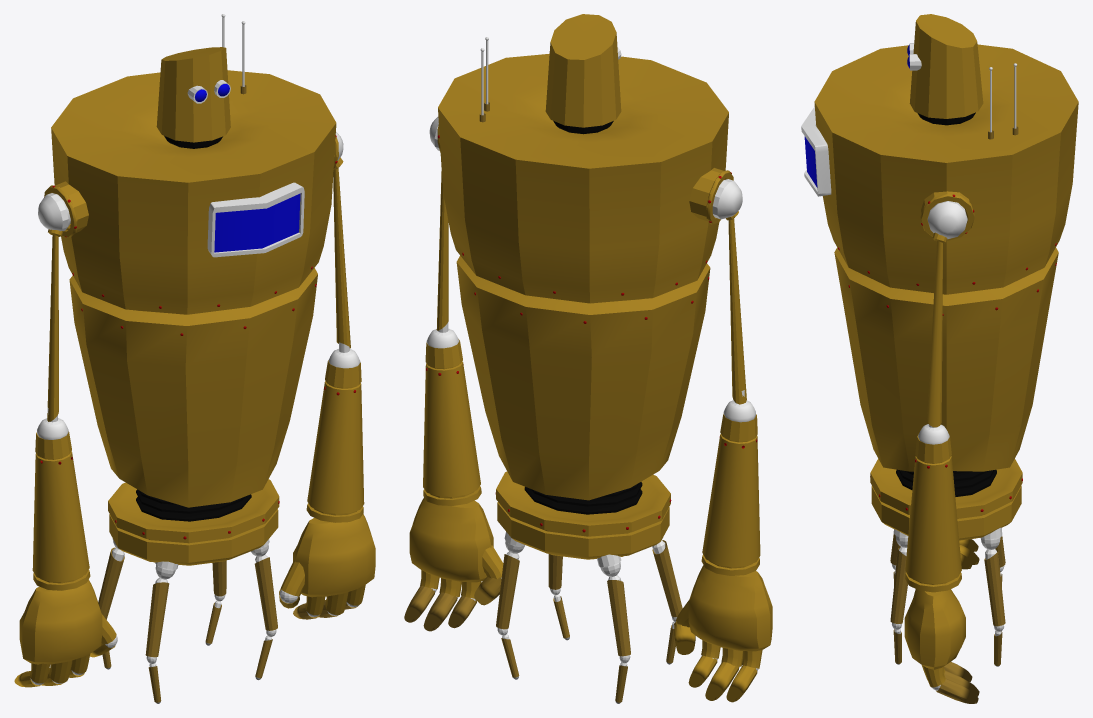
The model's file is Robot.fbx.
The picture shows the model from 3 angles, left to right: view 1: azimuth 30°, elevation 25°; view 2: azimuth 150°, elevation 25°; view 3: azimuth 270°, elevation 25°; orthographic projection. The views are drawn at different scales.
Visible parts, largest first — view 1: pCylinder1, pCylinder9, polySurface6, polySurface155, pCylinder11, polySurface181, polySurface84, pCube4, pCube3, polySurface2, polySurface153, pCylinder8 (+8 smaller); view 2: pCylinder1, pCylinder9, polySurface6, polySurface155, pCylinder11, polySurface181, polySurface84, polySurface153, pCylinder8, polySurface2, polySurface156, polySurface177 (+8 smaller); view 3: pCylinder1, polySurface6, pCylinder11, pCylinder9, polySurface84, polySurface2, pCube3, pCylinder12, pCylinder8, polySurface172, pPipe3, polySurface160 (+2 smaller).
Boxes of the visible parts, x1,y1,x2,y2 form: pCylinder1: [51, 70, 336, 507]; pCylinder9: [108, 479, 279, 565]; polySurface6: [306, 360, 364, 522]; polySurface155: [32, 431, 90, 590]; pCylinder11: [156, 47, 230, 142]; polySurface181: [19, 579, 102, 664]; polySurface84: [293, 514, 375, 597]; pCube4: [214, 193, 300, 252]; pCube3: [207, 182, 304, 257]; polySurface2: [333, 157, 350, 348]; polySurface153: [47, 229, 62, 421]; pCylinder8: [136, 489, 251, 521]; pCylinder1: [438, 53, 728, 500]; pCylinder9: [496, 471, 670, 559]; polySurface6: [423, 339, 481, 505]; polySurface155: [701, 414, 760, 575]; pCylinder11: [545, 14, 621, 127]; polySurface181: [688, 565, 772, 651]; polySurface84: [409, 497, 493, 582]; polySurface153: [726, 211, 746, 404]; pCylinder8: [524, 482, 642, 514]; polySurface2: [436, 171, 448, 330]; polySurface156: [689, 168, 733, 224]; polySurface177: [607, 580, 630, 656]; pCylinder1: [814, 44, 1078, 471]; polySurface6: [905, 435, 961, 592]; pCylinder11: [909, 14, 983, 118]; pCylinder9: [870, 458, 1022, 540]; polySurface84: [904, 589, 965, 669]; polySurface2: [927, 232, 947, 427]; pCube3: [801, 107, 831, 196]; pCylinder12: [927, 201, 967, 239]; pCylinder8: [896, 469, 996, 496]; polySurface172: [984, 550, 1005, 626]; pPipe3: [920, 191, 974, 240]; polySurface160: [890, 548, 907, 623].
Size of the model in its own units: 3.92 by 6.73 by 2.7.
